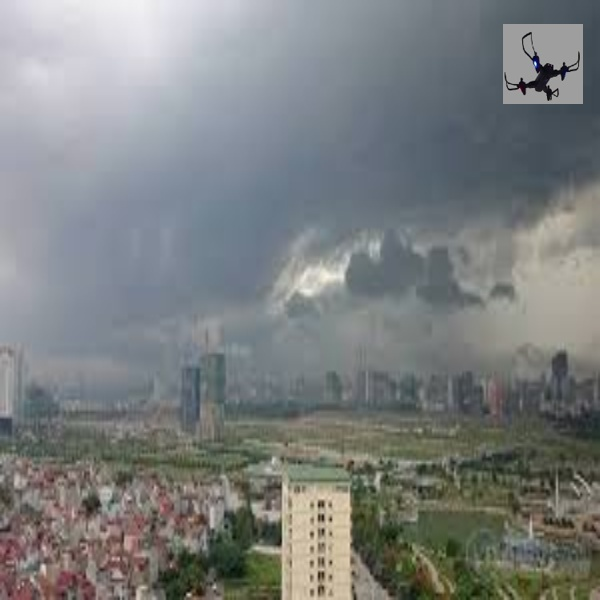drone: (502, 26, 585, 103)
